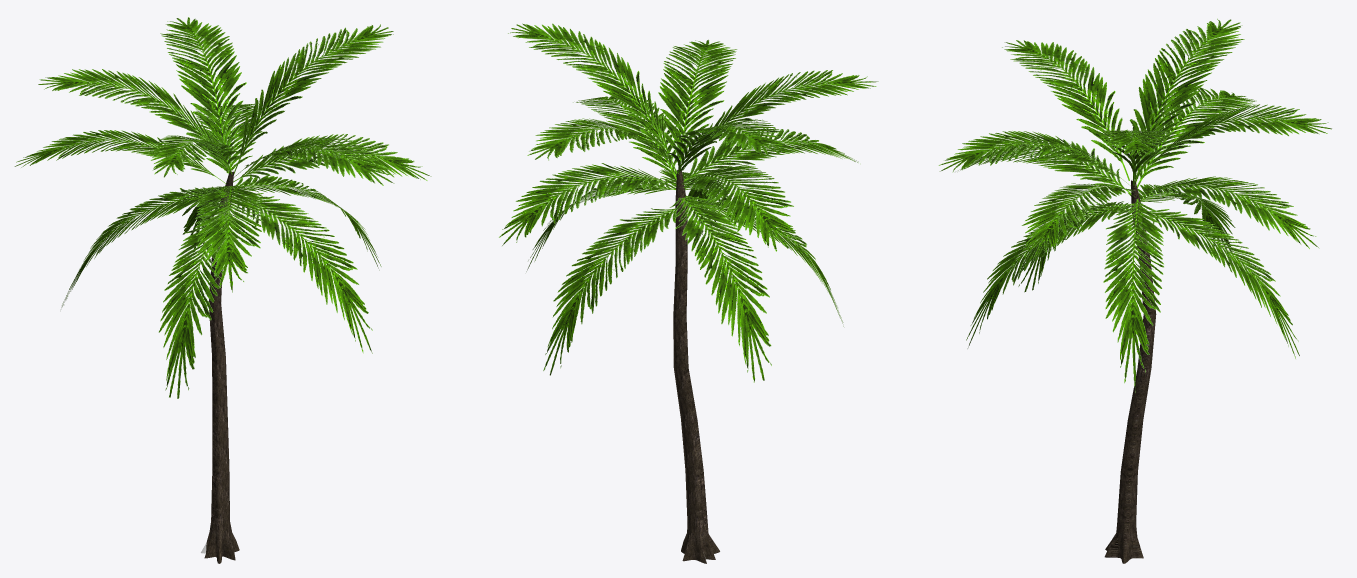
File: tree.obj
The picture shows the model from 3 angles, left to right: view 1: azimuth 30°, elevation 25°; view 2: azimuth 150°, elevation 25°; view 3: azimuth 270°, elevation 25°; orthographic projection. The views are drawn at different scales.
Parts seen in each view (by area): view 1: Mesh12 palmtree2_dxf1 Model, Mesh6 palmtree2_dxf1 Model, Mesh1 palmtree2_dxf1 Model, Mesh5 palmtree2_dxf1 Model, Mesh7 palmtree2_dxf1 Model, Mesh11 palmtree2_dxf1 Model, Mesh13 palmtree2_dxf1 Model, Mesh8 palmtree2_dxf1 Model, Mesh15 palmtree2_dxf1 Model, Mesh10 palmtree2_dxf1 Model, Mesh4 palmtree2_dxf1 Model, Mesh14 palmtree2_dxf1 Model (+3 smaller); view 2: Mesh4 palmtree2_dxf1 Model, Mesh1 palmtree2_dxf1 Model, Mesh3 palmtree2_dxf1 Model, Mesh7 palmtree2_dxf1 Model, Mesh15 palmtree2_dxf1 Model, Mesh9 palmtree2_dxf1 Model, Mesh10 palmtree2_dxf1 Model, Mesh14 palmtree2_dxf1 Model, Mesh11 palmtree2_dxf1 Model, Mesh13 palmtree2_dxf1 Model, Mesh12 palmtree2_dxf1 Model, Mesh8 palmtree2_dxf1 Model (+3 smaller); view 3: Mesh2 palmtree2_dxf1 Model, Mesh13 palmtree2_dxf1 Model, Mesh14 palmtree2_dxf1 Model, Mesh1 palmtree2_dxf1 Model, Mesh3 palmtree2_dxf1 Model, Mesh9 palmtree2_dxf1 Model, Mesh15 palmtree2_dxf1 Model, Mesh8 palmtree2_dxf1 Model, Mesh12 palmtree2_dxf1 Model, Mesh10 palmtree2_dxf1 Model, Mesh6 palmtree2_dxf1 Model, Mesh11 palmtree2_dxf1 Model (+3 smaller).
Boxes of the visible parts, <box> form: Mesh12 palmtree2_dxf1 Model: <box>160,17,246,173</box>; Mesh6 palmtree2_dxf1 Model: <box>236,193,372,353</box>; Mesh1 palmtree2_dxf1 Model: <box>201,170,239,563</box>; Mesh5 palmtree2_dxf1 Model: <box>158,206,240,398</box>; Mesh7 palmtree2_dxf1 Model: <box>234,24,393,174</box>; Mesh11 palmtree2_dxf1 Model: <box>194,186,263,292</box>; Mesh13 palmtree2_dxf1 Model: <box>38,69,229,171</box>; Mesh8 palmtree2_dxf1 Model: <box>233,134,431,182</box>; Mesh15 palmtree2_dxf1 Model: <box>234,137,394,185</box>; Mesh10 palmtree2_dxf1 Model: <box>14,130,225,183</box>; Mesh4 palmtree2_dxf1 Model: <box>61,186,223,307</box>; Mesh14 palmtree2_dxf1 Model: <box>146,135,240,177</box>; Mesh4 palmtree2_dxf1 Model: <box>669,195,771,382</box>; Mesh1 palmtree2_dxf1 Model: <box>673,169,719,563</box>; Mesh3 palmtree2_dxf1 Model: <box>543,208,676,375</box>; Mesh7 palmtree2_dxf1 Model: <box>508,23,676,173</box>; Mesh15 palmtree2_dxf1 Model: <box>658,39,737,162</box>; Mesh9 palmtree2_dxf1 Model: <box>499,163,676,245</box>; Mesh10 palmtree2_dxf1 Model: <box>681,164,796,251</box>; Mesh14 palmtree2_dxf1 Model: <box>682,70,878,170</box>; Mesh11 palmtree2_dxf1 Model: <box>683,128,858,181</box>; Mesh13 palmtree2_dxf1 Model: <box>668,119,787,176</box>; Mesh12 palmtree2_dxf1 Model: <box>527,118,679,174</box>; Mesh8 palmtree2_dxf1 Model: <box>573,94,684,180</box>; Mesh2 palmtree2_dxf1 Model: <box>1103,198,1163,392</box>; Mesh13 palmtree2_dxf1 Model: <box>1128,18,1244,187</box>; Mesh14 palmtree2_dxf1 Model: <box>1002,40,1129,180</box>; Mesh1 palmtree2_dxf1 Model: <box>1104,179,1156,563</box>; Mesh3 palmtree2_dxf1 Model: <box>1149,209,1299,358</box>; Mesh9 palmtree2_dxf1 Model: <box>1138,176,1319,248</box>; Mesh15 palmtree2_dxf1 Model: <box>938,130,1130,185</box>; Mesh8 palmtree2_dxf1 Model: <box>1021,183,1135,260</box>; Mesh12 palmtree2_dxf1 Model: <box>1144,104,1331,172</box>; Mesh10 palmtree2_dxf1 Model: <box>1135,87,1257,188</box>; Mesh6 palmtree2_dxf1 Model: <box>966,202,1132,348</box>; Mesh11 palmtree2_dxf1 Model: <box>958,137,1134,196</box>.
Bounding box in the file's own units: 354 × 458 × 364.
3 materials, 2 textured.
